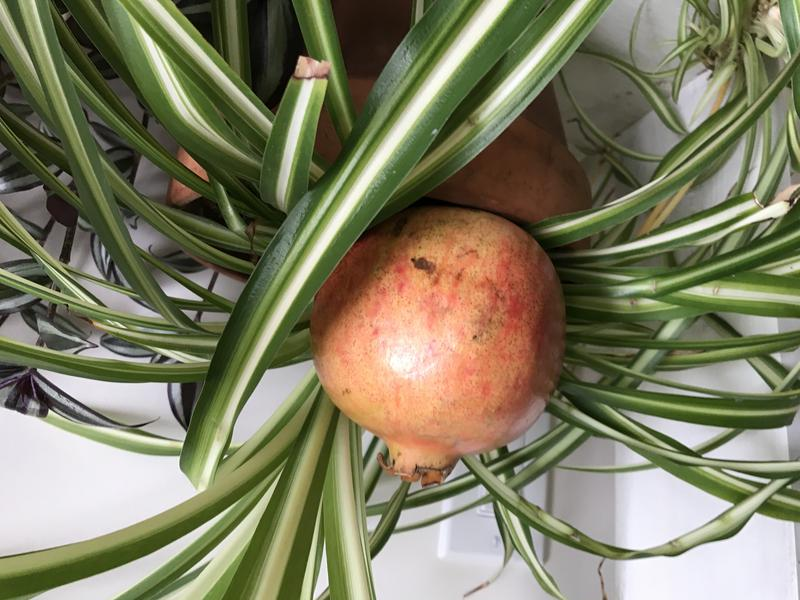pomegranate: (294, 183, 578, 497)
